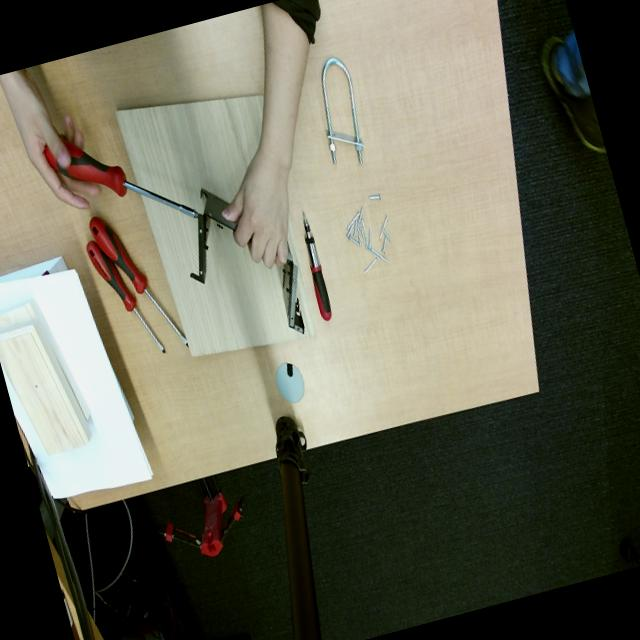screwdriver: (90, 216, 187, 344), (44, 138, 198, 217), (86, 240, 165, 352), (303, 212, 331, 320)
